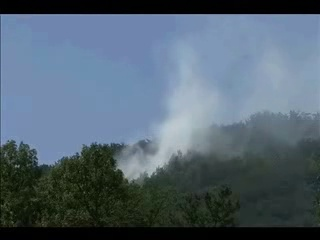smoke: (171, 20, 303, 153), (110, 94, 202, 182)
